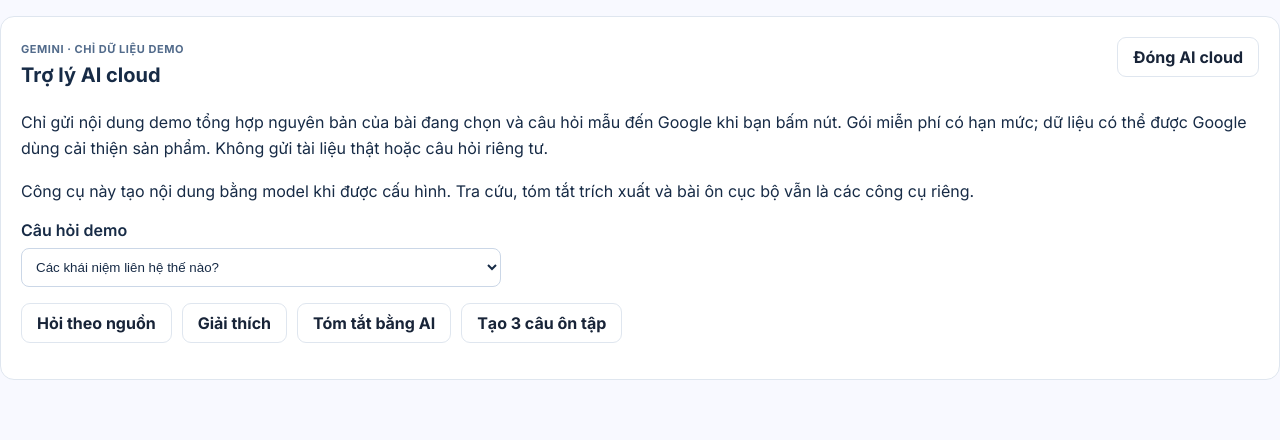
Test: demo cloud explicit scoped interaction › does not show a response generated from a different source revision
The image size is (1280, 440).
Step 1. Click the button "Giải thích" → (234,323), box [182,303,287,343]
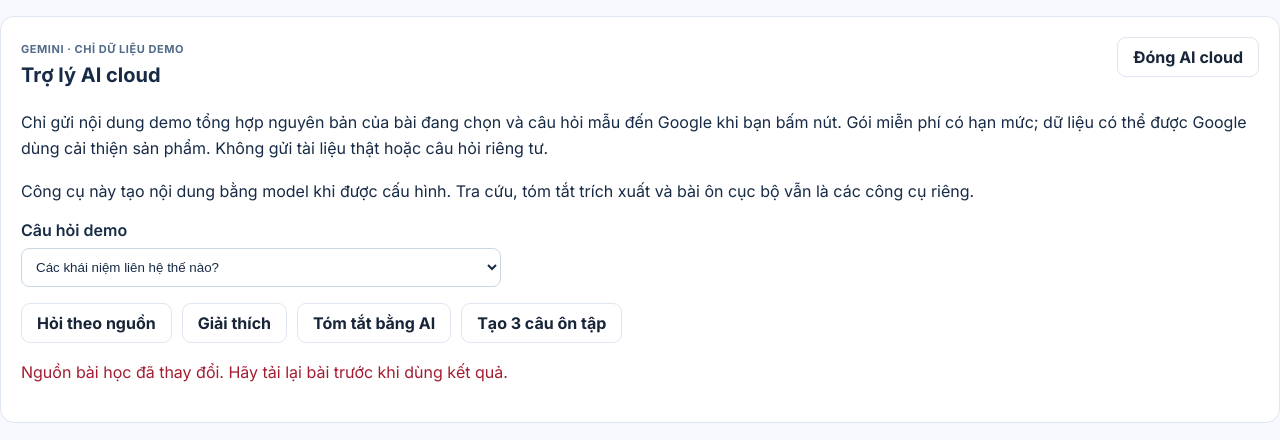
Result: the message shows "Nguồn bài học đã thay đổi" at [21,362,508,382]
